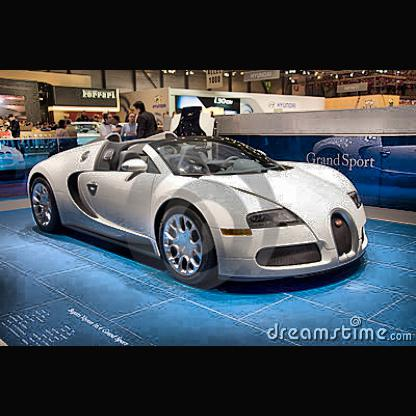Bugatti Veyron 16-4 Convertible 2009: (28, 133, 371, 284)
